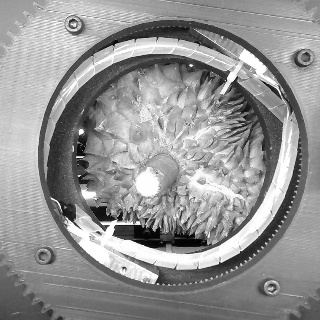base: (144, 150, 182, 184)
end: (134, 170, 160, 198)
